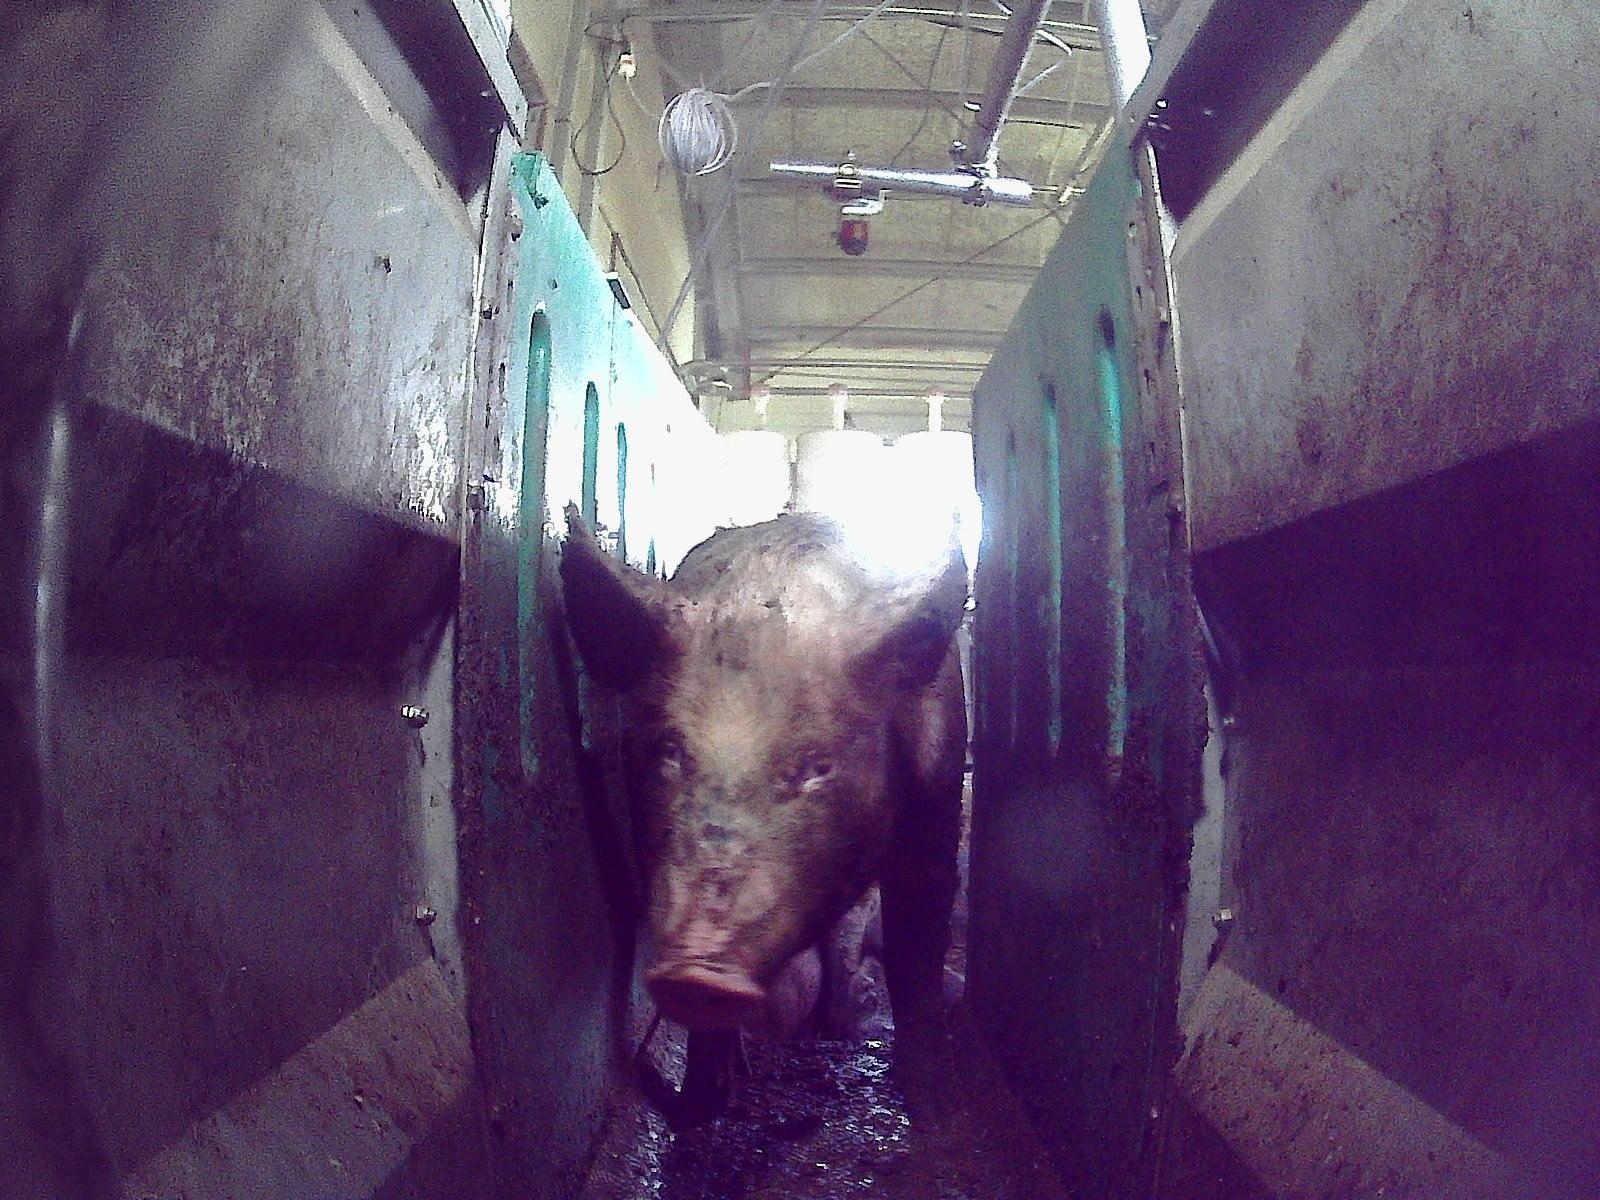Face: (627, 613, 892, 1023)
